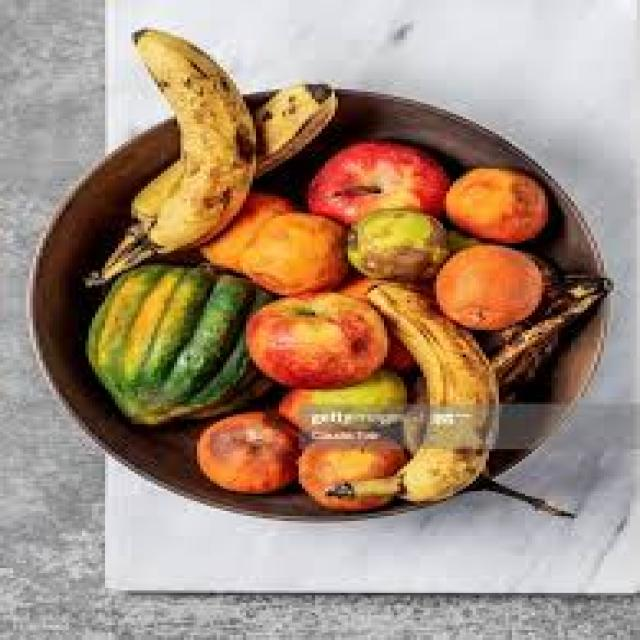organic waste: (391, 273, 607, 521), (95, 82, 328, 280), (85, 27, 253, 283), (322, 278, 496, 501), (82, 263, 266, 427), (240, 288, 384, 389), (306, 136, 446, 226), (233, 211, 345, 295), (430, 243, 538, 328), (436, 158, 542, 240), (341, 278, 430, 370), (272, 374, 404, 436), (194, 409, 295, 489), (342, 208, 456, 273), (197, 188, 292, 266), (295, 439, 407, 504), (400, 375, 430, 449)
